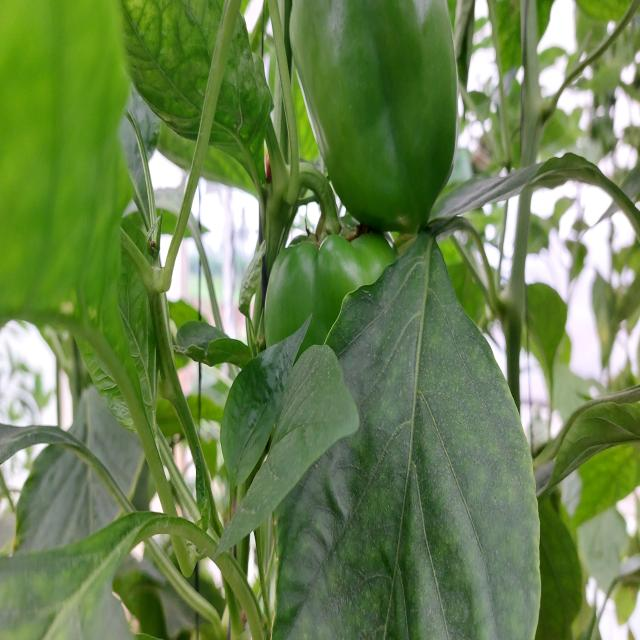Green--Not-ready-to-harvest: (282, 6, 463, 238), (264, 221, 392, 342)
